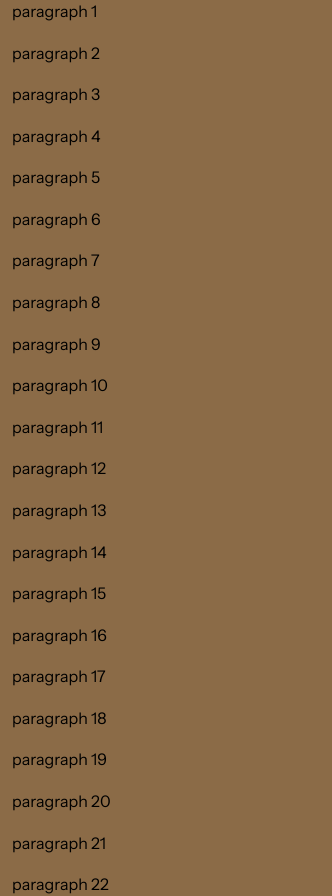
Test: a selection dragged across the window › the window moving on with the drag keeps both ends of the selection on the page
This screenshot has width=332, height=896.
Press the mouse on the text box labelled "paragraph 10" at (60, 385), box [12, 375, 108, 395]
(page scrolled)
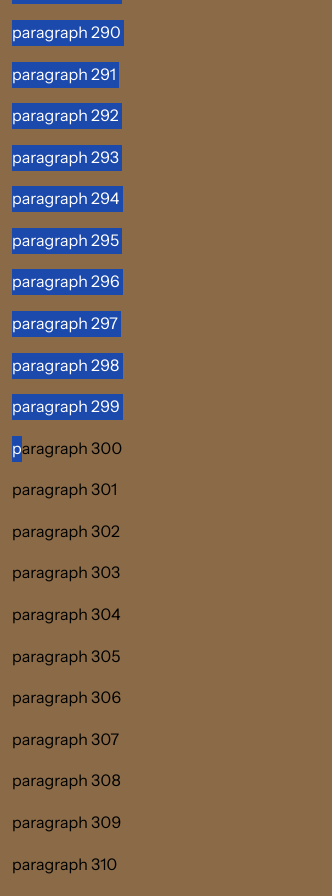
Press Delete in the text box labelled "paragraph 300", box [12, 438, 122, 458]
(page scrolled)
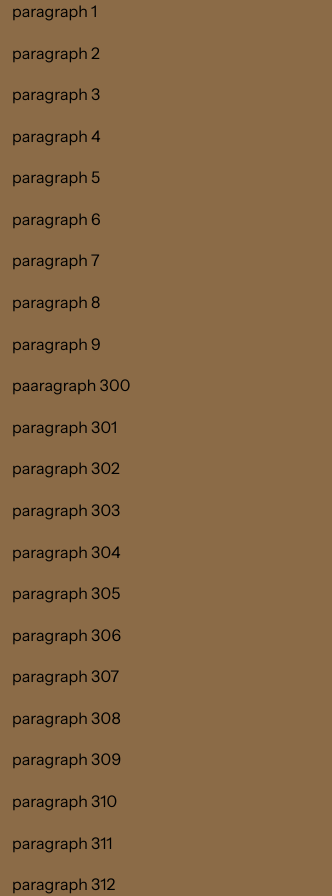
Expected: the text box labelled "paragraph 301" is shown, [12, 417, 117, 437]
Expected: the text box labelled "paaragraph 300" is shown, [12, 375, 130, 395]
